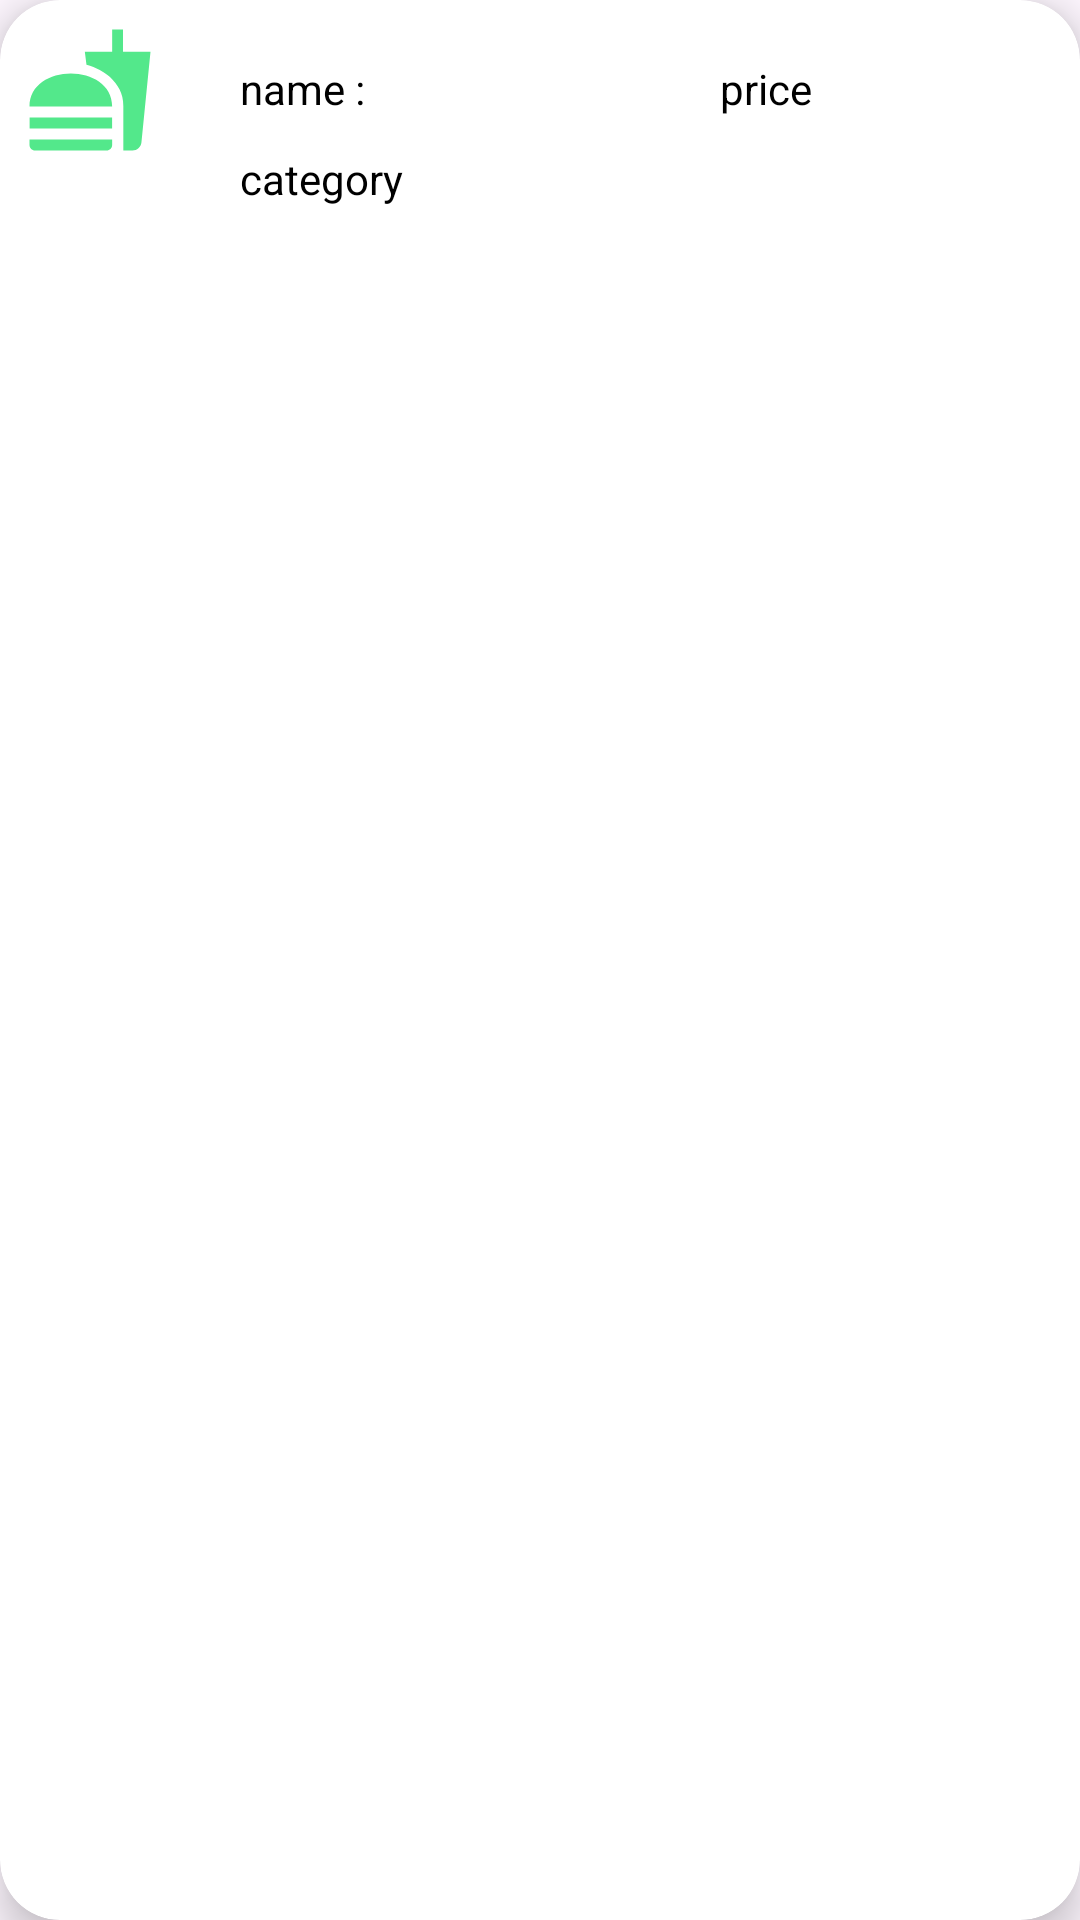

Named icons in this screenshot (1080 × 1920) and their bounding boxes, bbox=[x1, y1, x2, y2]:
foodproduct: bbox=[0, 0, 151, 151]
